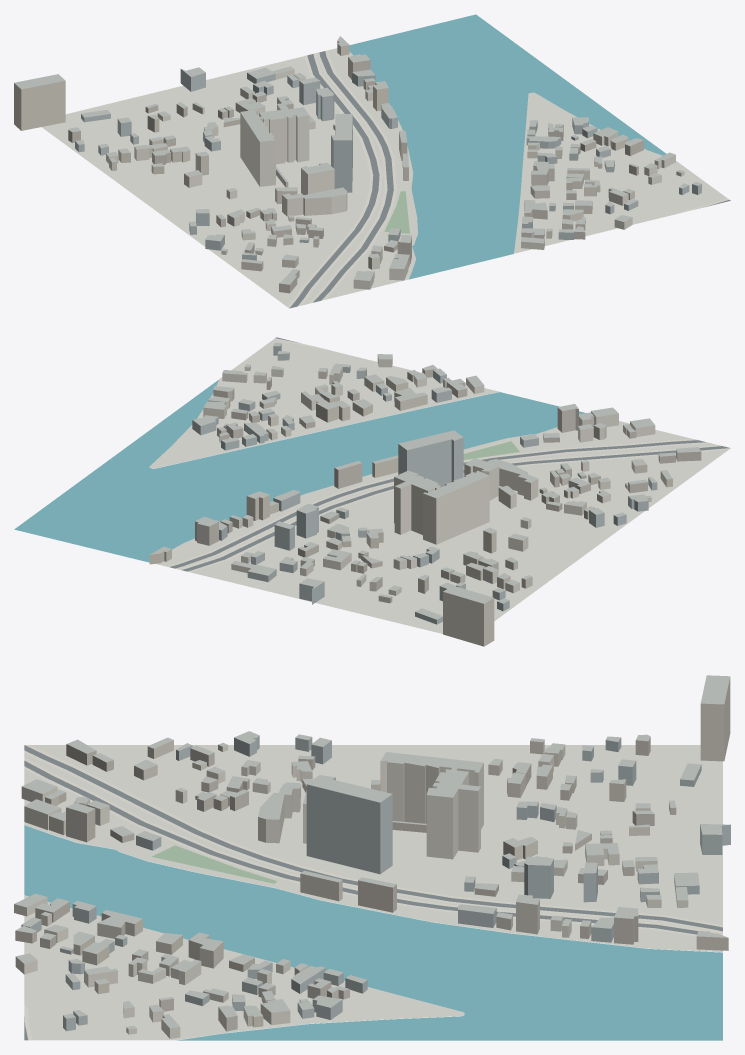
3 renders of one model, top to bottom at view 1: azimuth 30°, elevation 25°; view 2: azimuth 150°, elevation 25°; view 3: azimuth 270°, elevation 25°, orthographic. The views are drawn at different scales.
Visible parts, largest first — view 1: city; view 2: city; view 3: city.
Boxes of the visible parts, bbox=[...] form: city: bbox=[14, 14, 730, 308]; city: bbox=[14, 337, 730, 646]; city: bbox=[14, 675, 730, 1040].
Bounding box in the file's own units: 522 × 56.78 × 513.
